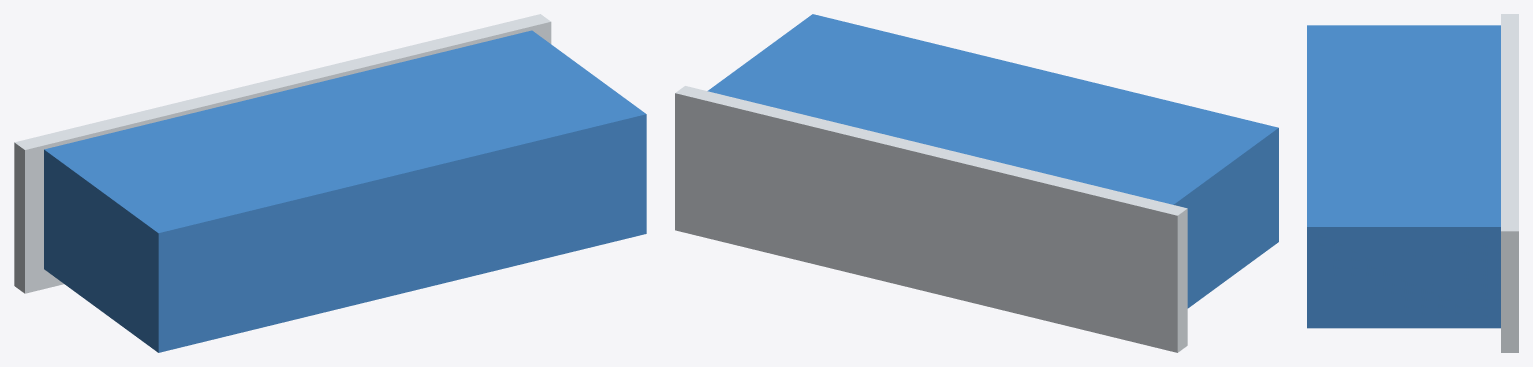
File: reception.glb
The picture shows the model from 3 angles, left to right: view 1: azimuth 30°, elevation 25°; view 2: azimuth 150°, elevation 25°; view 3: azimuth 270°, elevation 25°; orthographic projection. The views are drawn at different scales.
Parts seen in each view (by area): view 1: counter, countertop; view 2: countertop, counter; view 3: counter, countertop.
Part boxes in pixels (<box>): counter: <box>44,30,646,352</box>; countertop: <box>14,14,551,293</box>; countertop: <box>675,86,1187,352</box>; counter: <box>707,14,1278,308</box>; counter: <box>1307,25,1500,328</box>; countertop: <box>1501,14,1518,352</box>.
Size of the model in its own units: 3.45 by 0.9 by 1.42.
